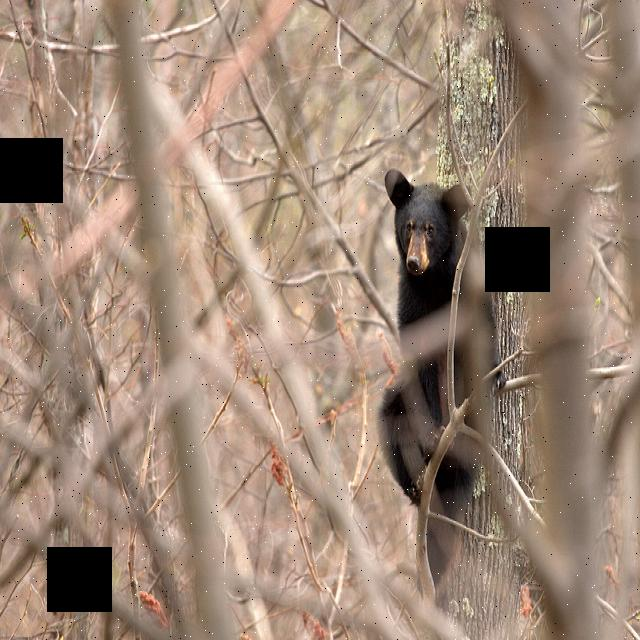Bear: (366, 152, 494, 516)
